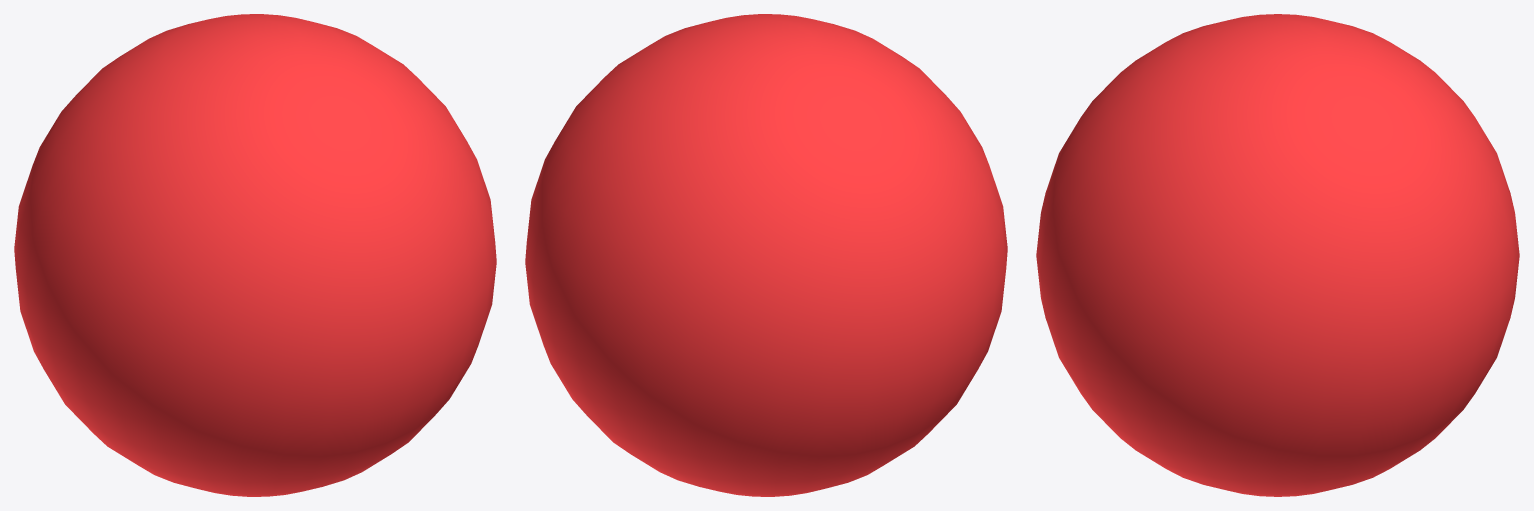
Rendered from Energie.fbx.
3 views of the same model, side by side, from view 1: azimuth 30°, elevation 25°; view 2: azimuth 150°, elevation 25°; view 3: azimuth 270°, elevation 25° (orthographic).
Parts seen in each view (by area): view 1: Kugel_2; view 2: Kugel_2; view 3: Kugel_2.
Boxes of the visible parts, box(x1,y1,x2,y2) form: Kugel_2: box(14, 14, 496, 496); Kugel_2: box(525, 14, 1007, 496); Kugel_2: box(1036, 14, 1519, 496).
Bounding box in the file's own units: 200 × 200 × 200.
